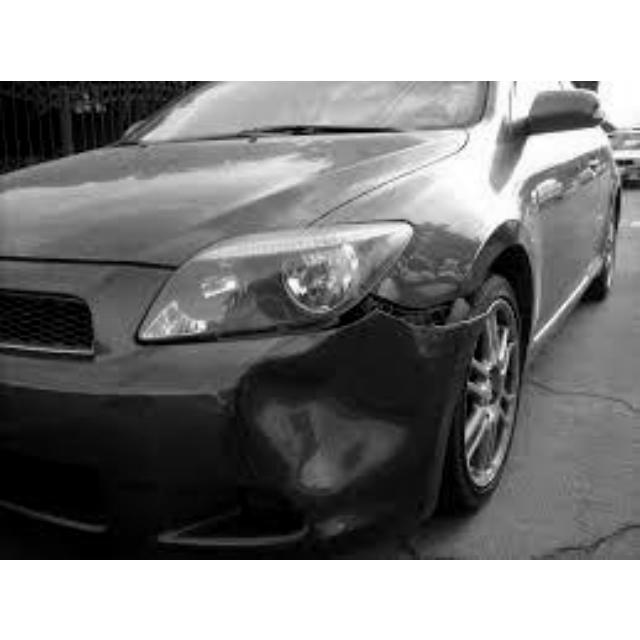front-bumper-dent: (139, 283, 502, 557)
